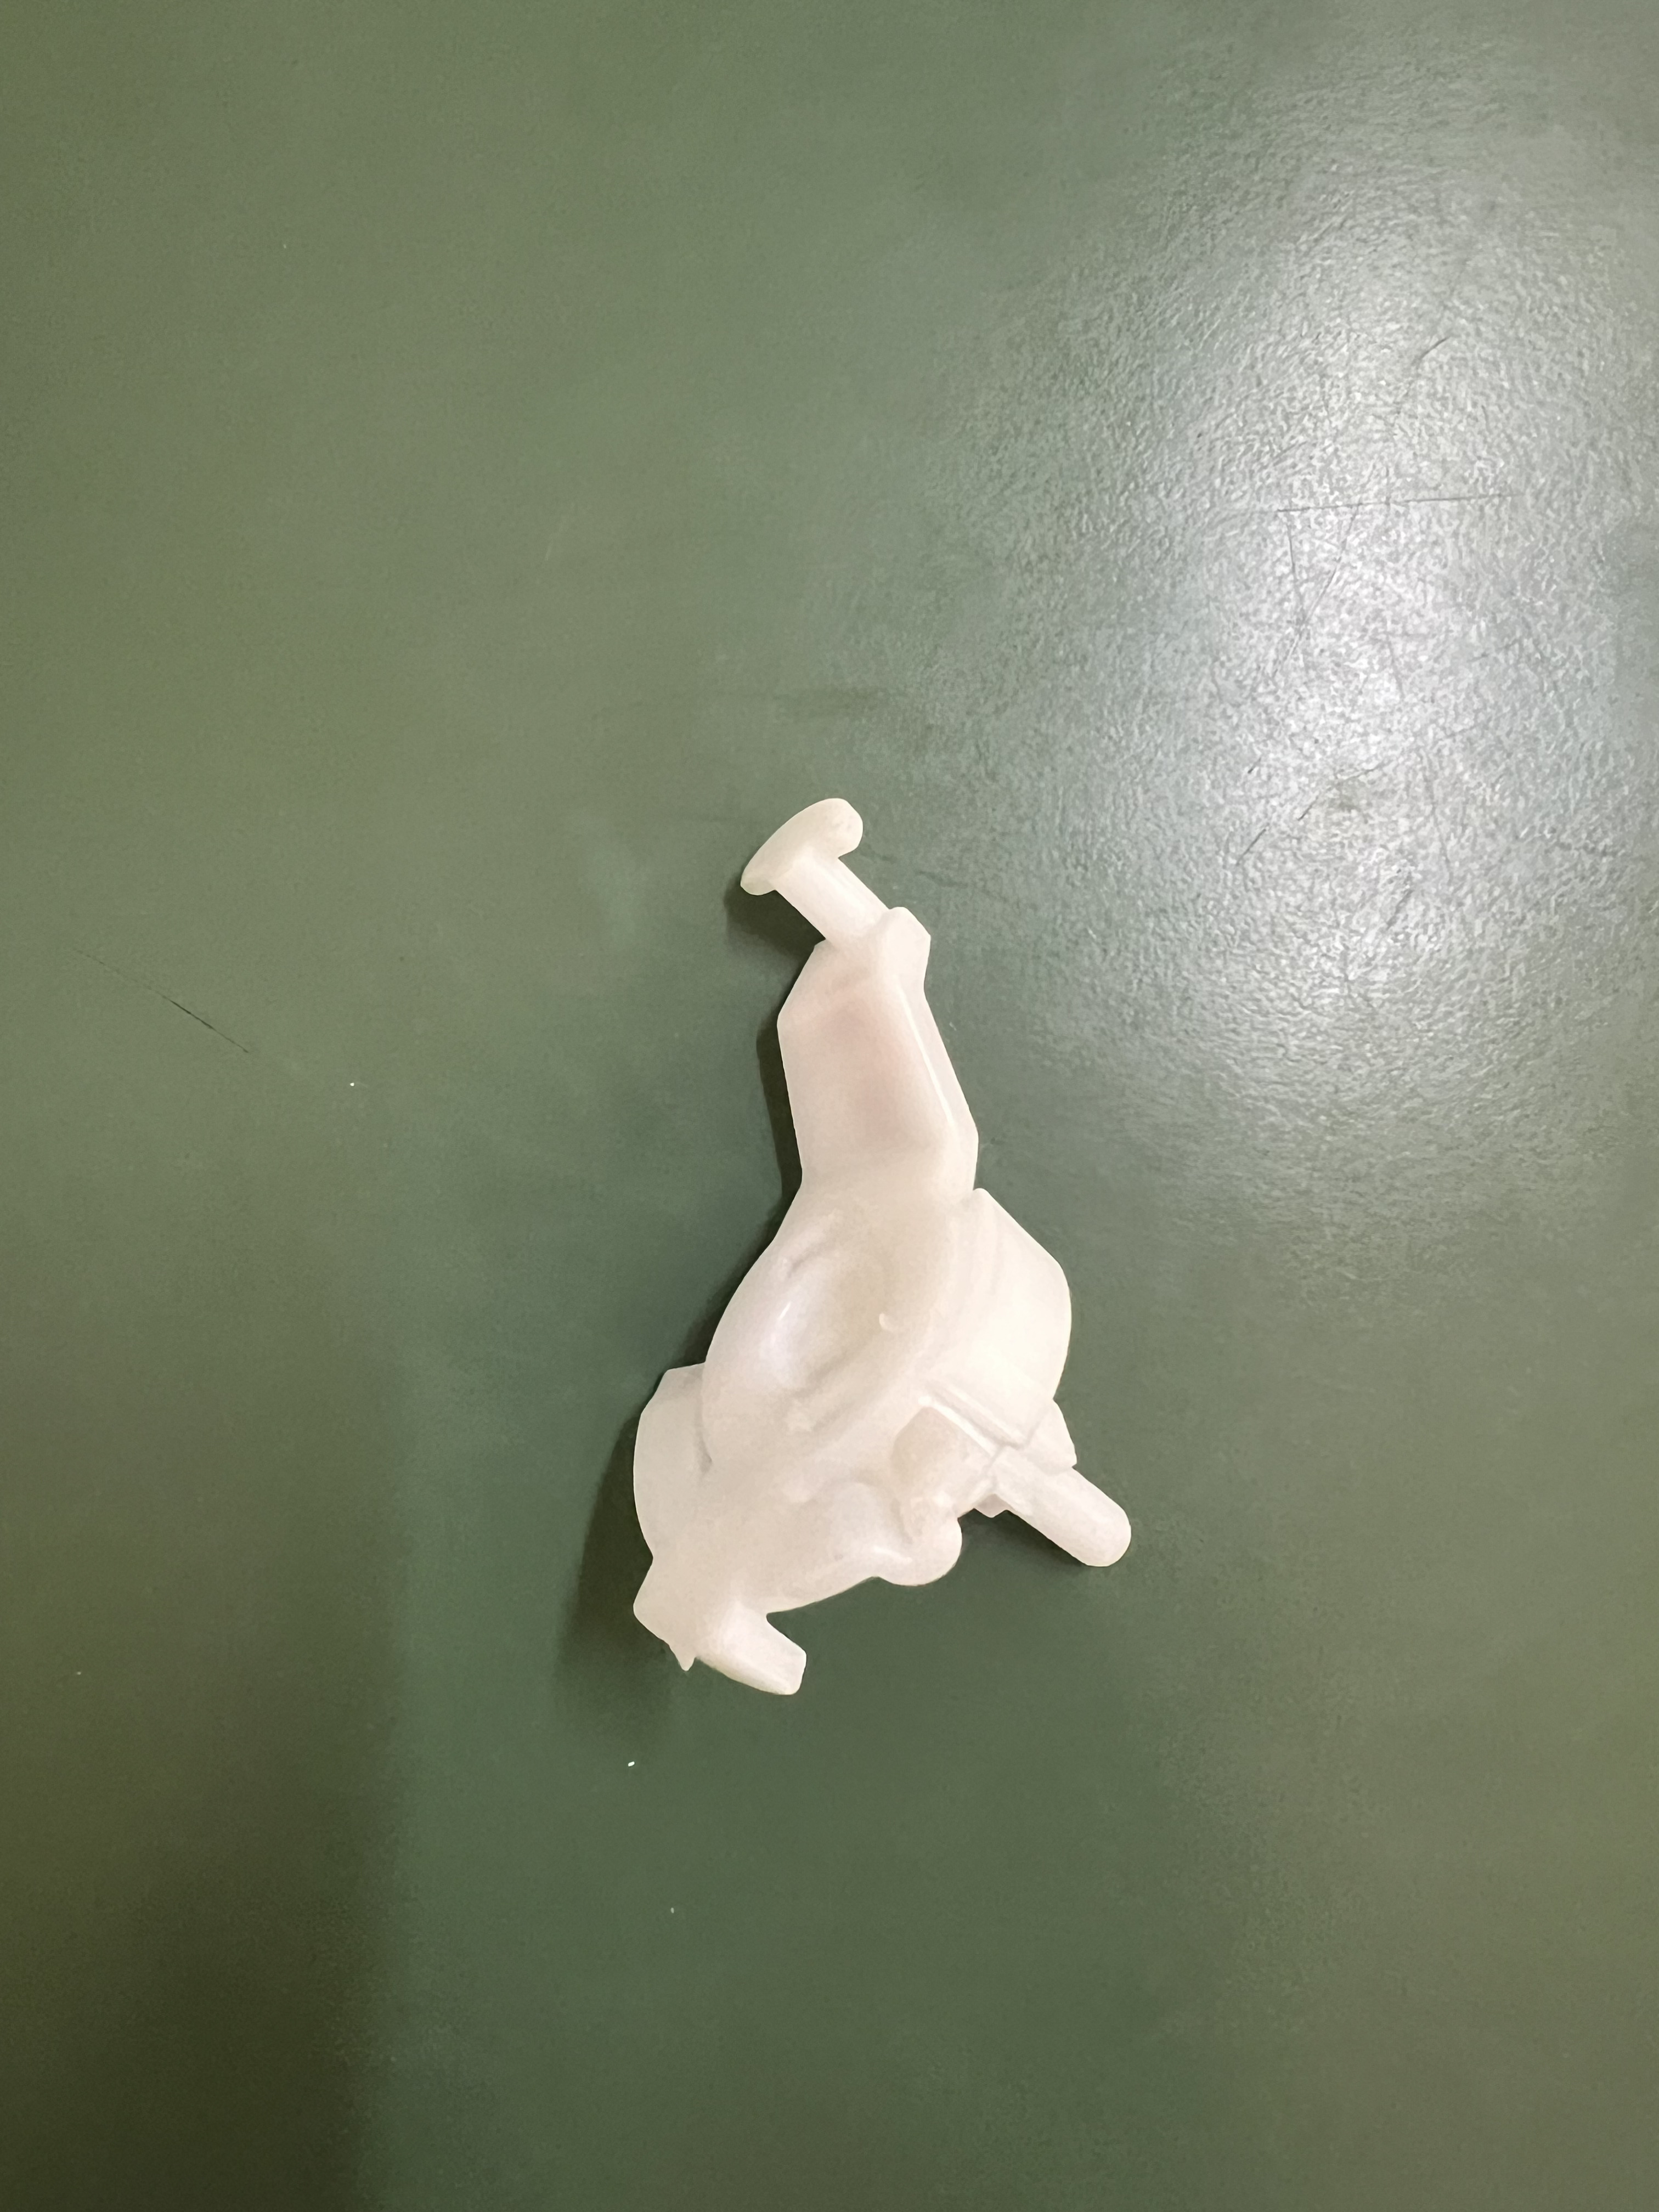drain_lever: (586, 798, 1140, 1703)
